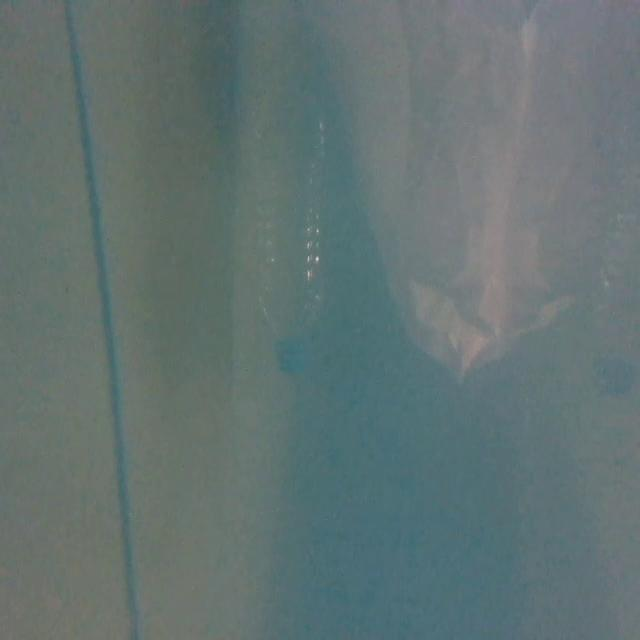plastic bags: (303, 2, 640, 384)
plastic bottle: (242, 63, 339, 430)
